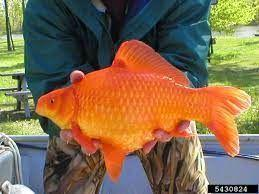Gold Fish: (36, 39, 252, 183)
